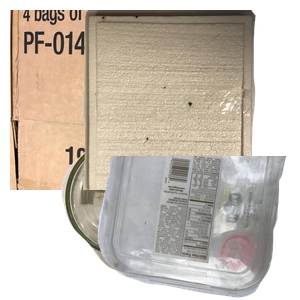cardboard: (10, 10, 250, 190)
glass: (59, 135, 254, 300)
plastic: (95, 156, 300, 300)
trash: (80, 10, 300, 190)
